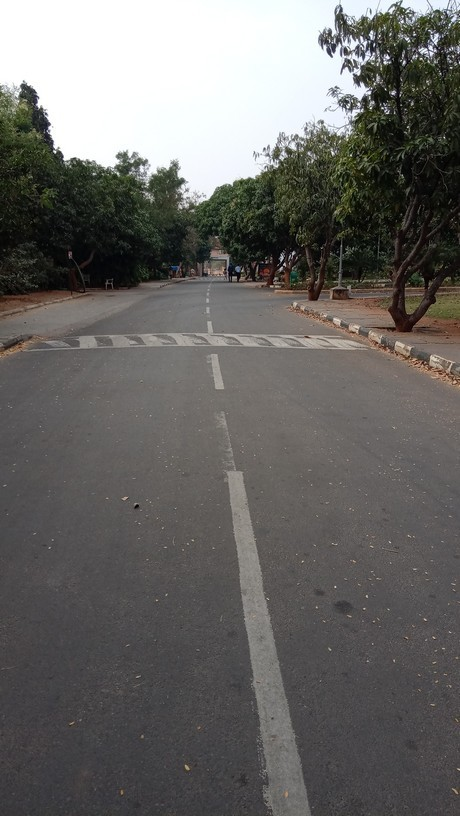bump: (30, 332, 363, 353)
